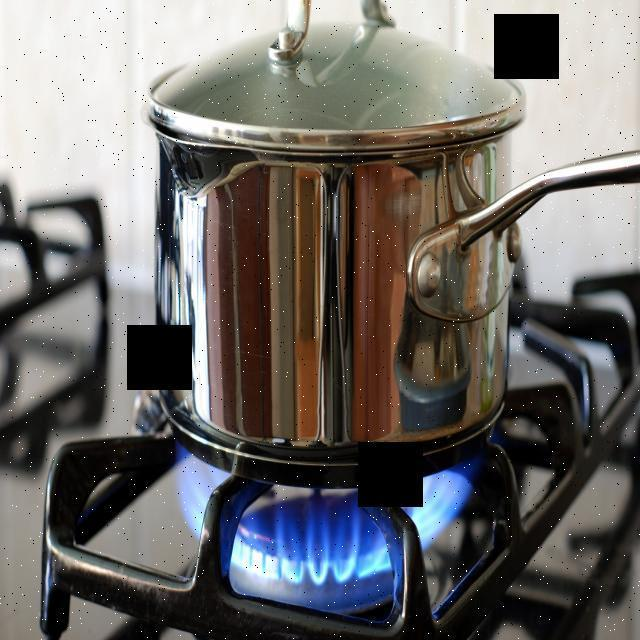Flame: (167, 468, 494, 594)
Pan: (121, 14, 544, 450)
